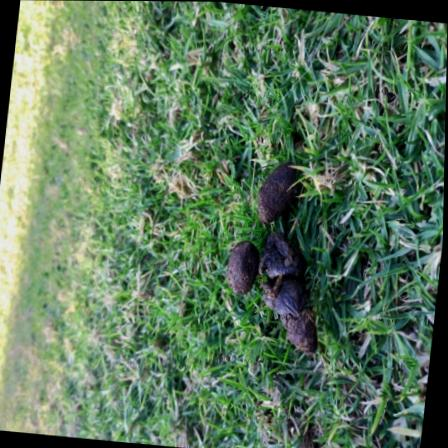dog-poop: (218, 151, 345, 359)
